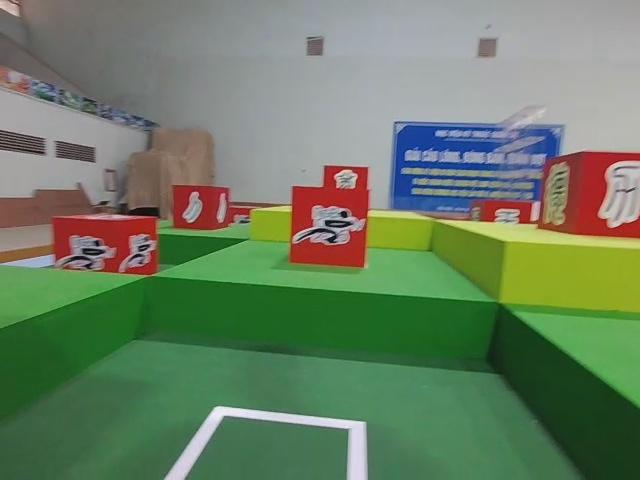R1: (52, 212, 160, 277), (289, 185, 371, 268)
R2 Fake: (537, 149, 640, 241)
R2 Real: (171, 183, 229, 231)
